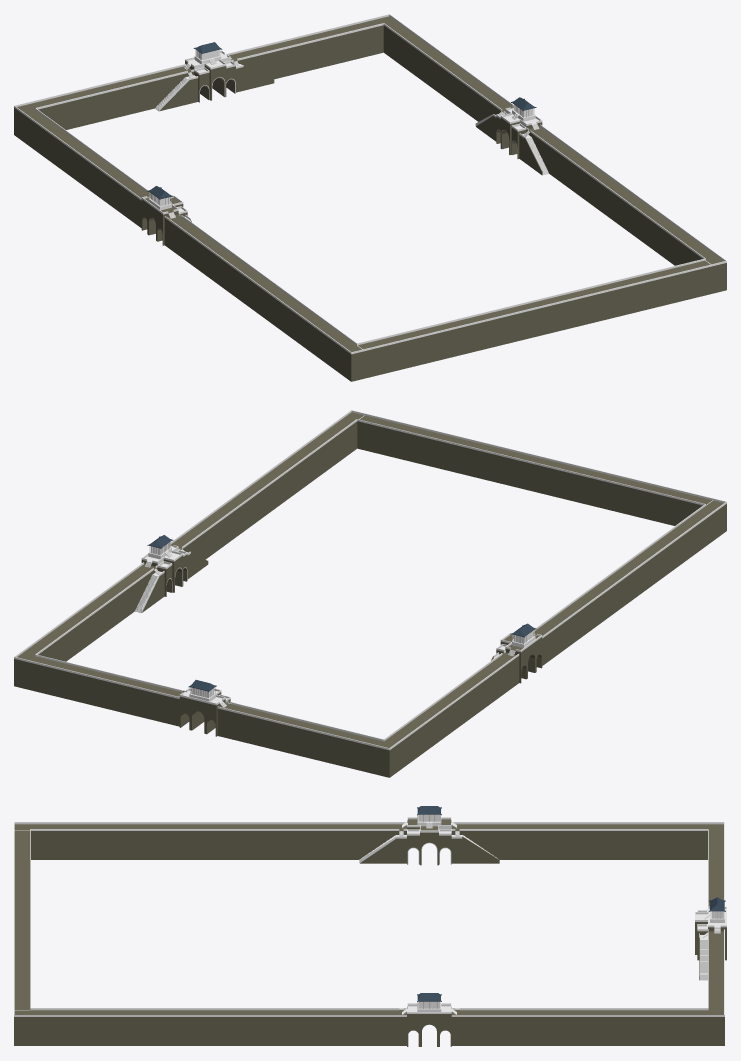
Rendered from jangan-wall.fbx.
The picture shows the model from 3 angles, top to bottom: view 1: azimuth 30°, elevation 25°; view 2: azimuth 150°, elevation 25°; view 3: azimuth 270°, elevation 25°; orthographic projection. The views are drawn at different scales.
Parts seen in each view (by area): view 1: Group_189_1, Group_190_1, Group1, Group_164_1; view 2: Group_189_1, Group_190_1, Group_164_1, Group1; view 3: Group_190_1, Group_189_1, Group_164_1, Group1, Group375.
Part boxes in pixels (x1,y1,x2,y2): Group_189_1: (14,102,365,381); Group_190_1: (376,14,726,293); Group1: (357,258,712,378); Group_164_1: (28,17,383,129); Group_189_1: (375,498,726,777); Group_190_1: (14,410,364,689); Group_164_1: (28,654,383,774); Group1: (357,413,712,525); Group_190_1: (14,1003,724,1046); Group_189_1: (14,817,724,865); Group_164_1: (695,829,726,1009); Group1: (14,829,30,1009); Group375: (462,836,499,863).
Size of the model in its own units: 217 by 25.9 by 335.
